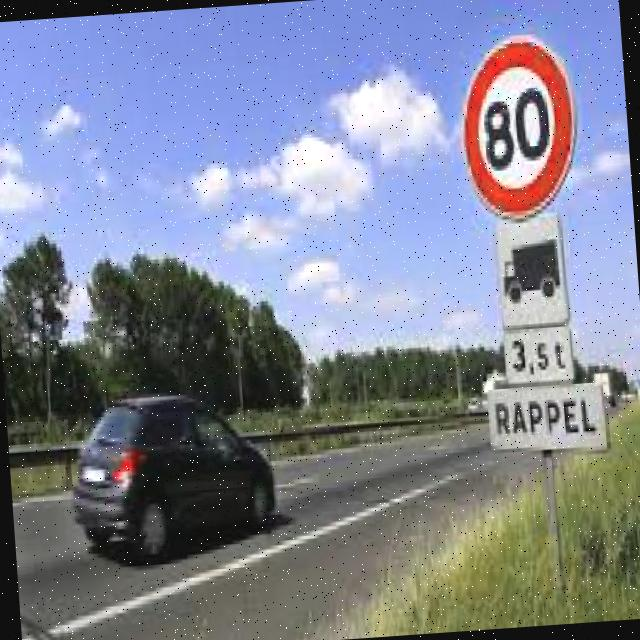Ograniczenie predkosci do 80: (456, 34, 587, 222)
